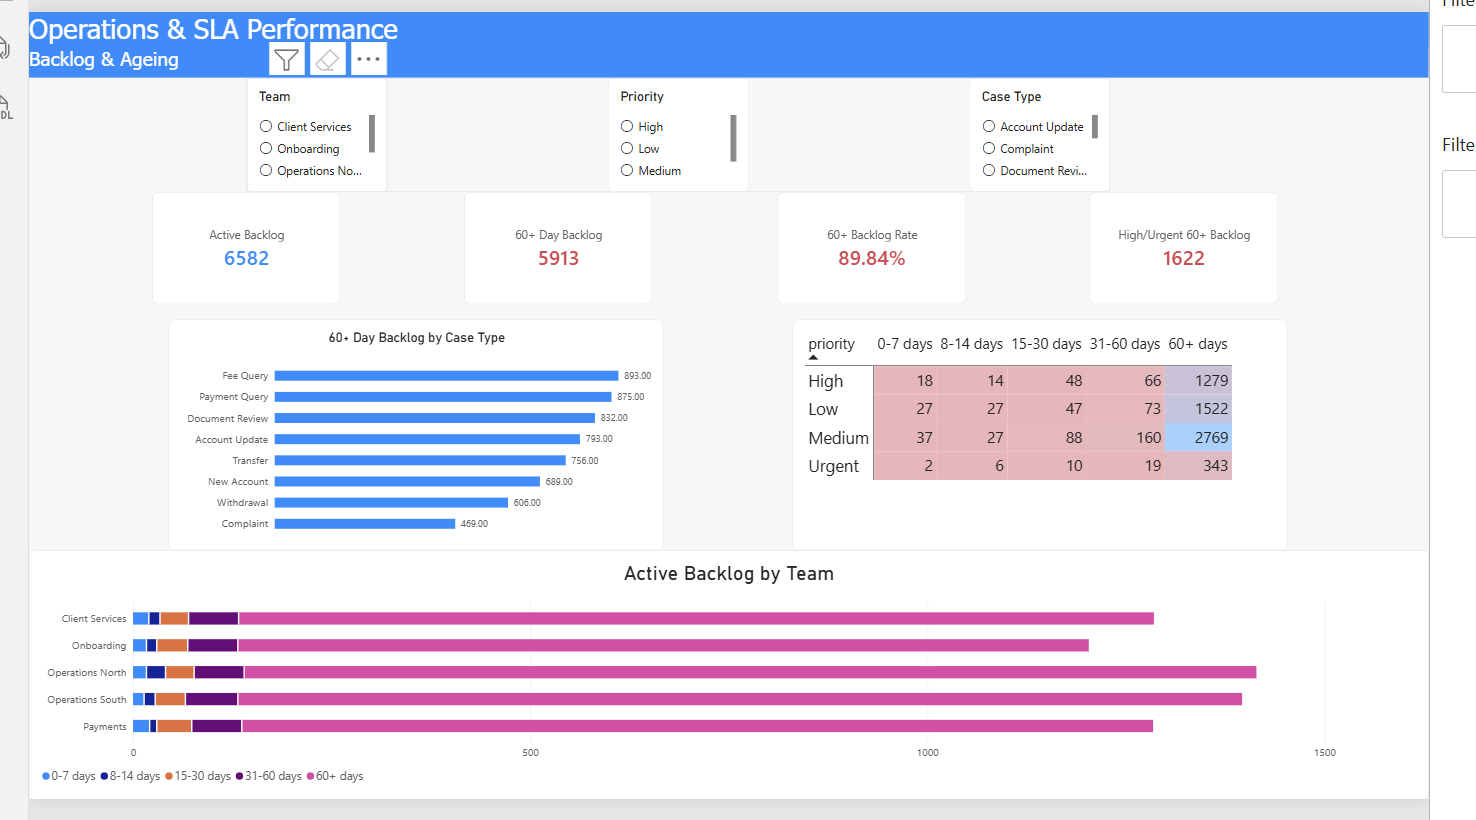

What the dashboard file says about the page in this screenshot:
{"tool":"powerbi","page":{"name":"Backlog & Ageing","canvas":[1920,1080],"ordinal":2},"visuals":[{"type":"cardVisual","fields":{"Data":["analysis_cases (002).Active Backlog"]},"box":[168.8,245.9,258.4,154.2],"z":0,"group":"g1"},{"type":"cardVisual","fields":{"Data":["analysis_cases (002).60+ Day Backlog"]},"box":[597.7,246,258,154],"z":1000,"group":"g1"},{"type":"cardVisual","fields":{"Data":["analysis_cases (002).60+ Backlog Rate"]},"box":[1026.1,246,258,154],"z":2000,"group":"g1"},{"type":"cardVisual","fields":{"Data":["analysis_cases (002).High/Urgent 60+ Backlog"]},"box":[1454.6,246,258,154],"z":3000,"group":"g1"},{"type":"barChart","title":"Active Backlog by Team","fields":{"Category":["analysis_cases (002).team"],"Series":["analysis_cases (002).ageing_bucket"],"Y":["analysis_cases (002).Active Backlog"]},"box":[0,737.7,1919.3,341.8],"z":4000},{"type":"clusteredBarChart","title":"60+ Day Backlog by Case Type","fields":{"Category":["analysis_cases (002).case_type"],"Y":["analysis_cases (002).60+ Day Backlog"]},"box":[192.2,420.8,679.4,316.8],"z":5000,"group":"g3"},{"type":"pivotTable","fields":{"Columns":["analysis_cases (002).ageing_bucket"],"Rows":["analysis_cases (002).priority"],"Values":["analysis_cases (002).Active Backlog"]},"box":[1048.7,421.2,679,316],"z":6000,"group":"g3"},{"type":"listSlicer","fields":{"Values":["analysis_cases (002).team"]},"box":[298,89.6,193.8,156.3],"z":7000,"group":"g2"},{"type":"listSlicer","fields":{"Values":["analysis_cases (002).priority"]},"box":[794.4,89.6,193,156.3],"z":8000,"group":"g2"},{"type":"listSlicer","fields":{"Values":["analysis_cases (002).case_type"]},"box":[1290,89.7,193,156],"z":9000,"group":"g2"},{"type":"shape","title":"Operations & SLA Performance","box":[0,0,1919.3,90],"z":9001},{"type":"group","id":"g1","title":"Group 1","box":[168.8,245.9,1544.2,154.2],"z":9002},{"type":"group","id":"g2","title":"Group 2","box":[298,89.6,1185.8,156.3],"z":9003},{"type":"group","id":"g3","title":"Group 3","box":[192.2,420.8,1535.5,316.8],"z":9004}]}

Visuals, with their boxes on the page's 1920x1080 design canvas (x1, y1, x2, y2). These are canvas units, not pixel positions in the 1476x820 screenshot, which may show the page scaled, cropped or inside an application window:
cardVisual - analysis_cases (002).Active Backlog: 169,246,427,400
cardVisual - analysis_cases (002).60+ Day Backlog: 598,246,856,400
cardVisual - analysis_cases (002).60+ Backlog Rate: 1026,246,1284,400
cardVisual - analysis_cases (002).High/Urgent 60+ Backlog: 1455,246,1713,400
"Active Backlog by Team" barChart: 0,738,1919,1080
"60+ Day Backlog by Case Type" clusteredBarChart: 192,421,872,738
pivotTable - analysis_cases (002).ageing_bucket x analysis_cases (002).priority: 1049,421,1728,737
listSlicer - analysis_cases (002).team: 298,90,492,246
listSlicer - analysis_cases (002).priority: 794,90,987,246
listSlicer - analysis_cases (002).case_type: 1290,90,1483,246
"Operations & SLA Performance" shape: 0,0,1919,90
"Group 1" group: 169,246,1713,400
"Group 2" group: 298,90,1484,246
"Group 3" group: 192,421,1728,738
